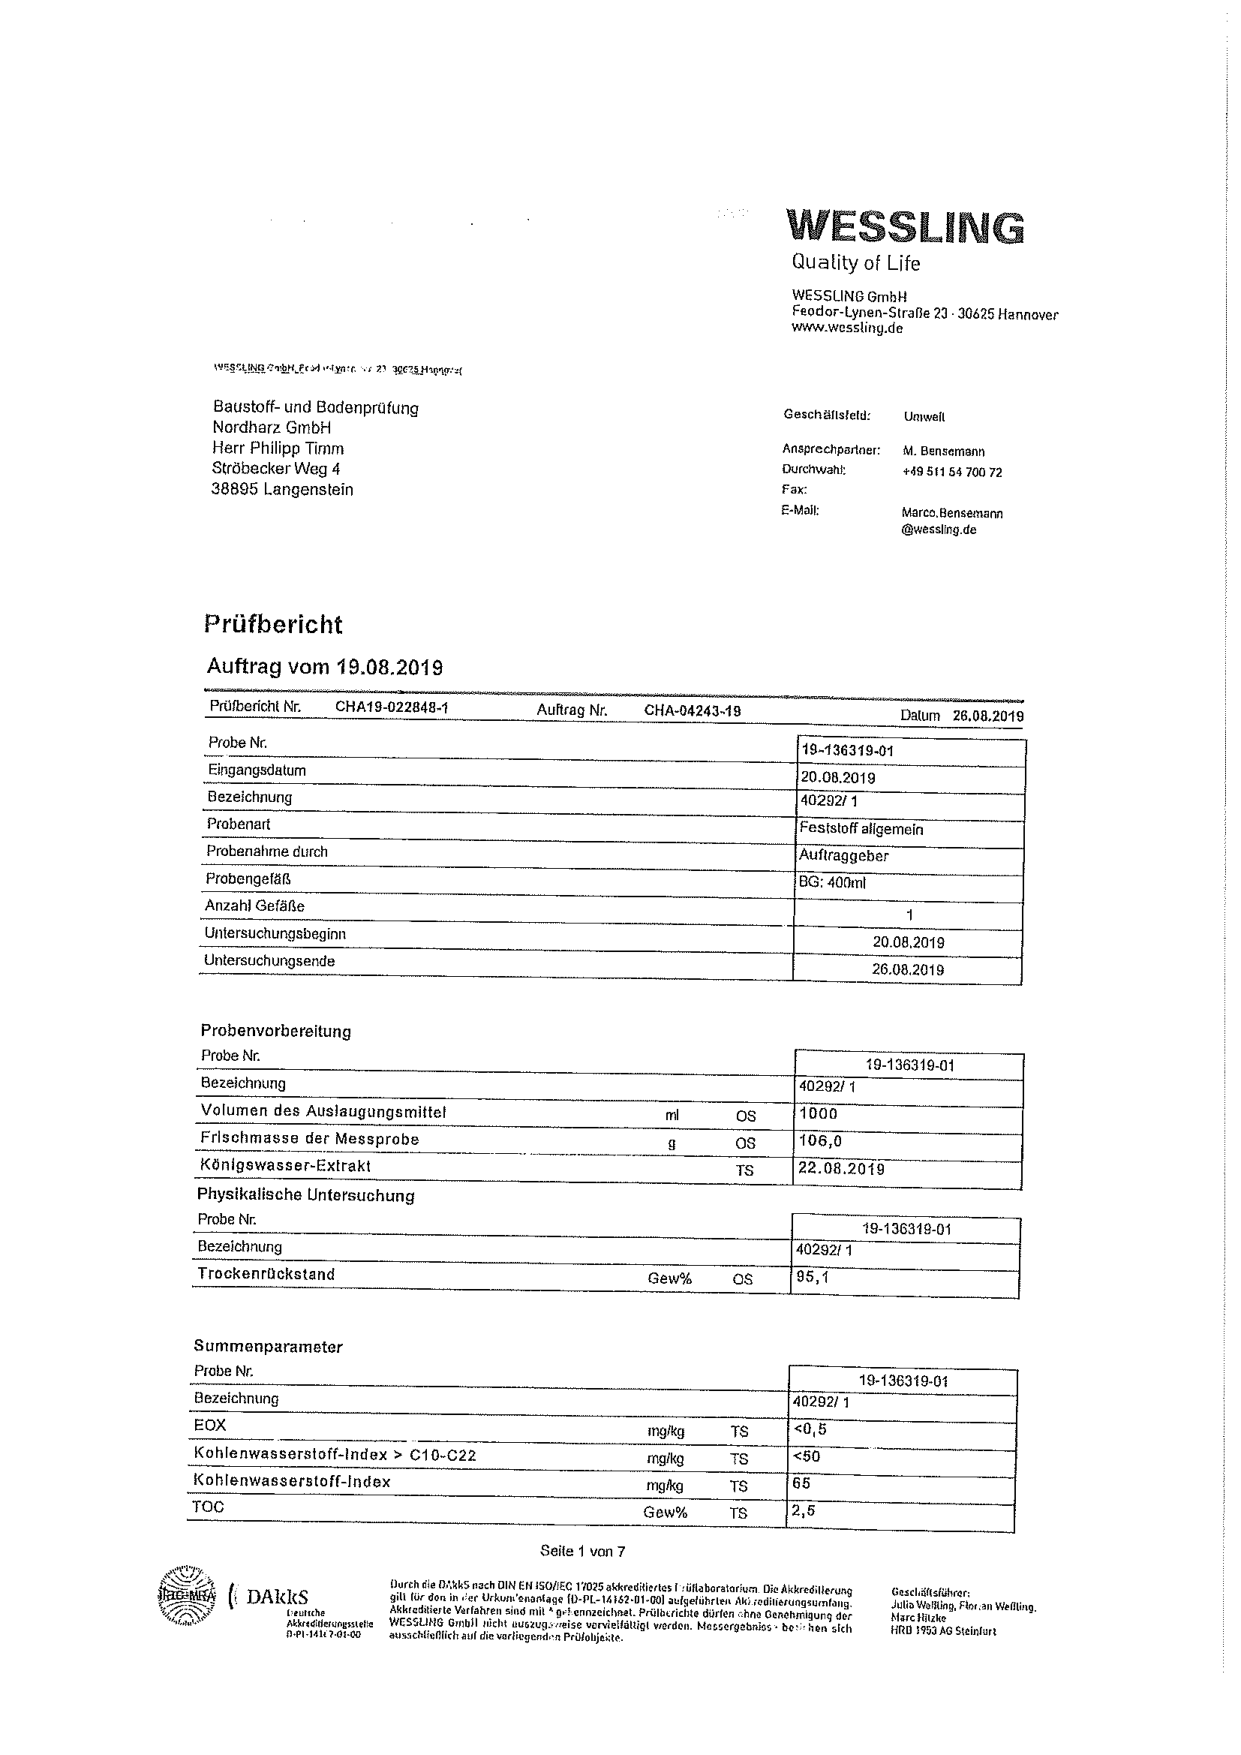table: (167, 649, 1070, 996), (169, 1012, 1042, 1315), (167, 1324, 1062, 1548)
